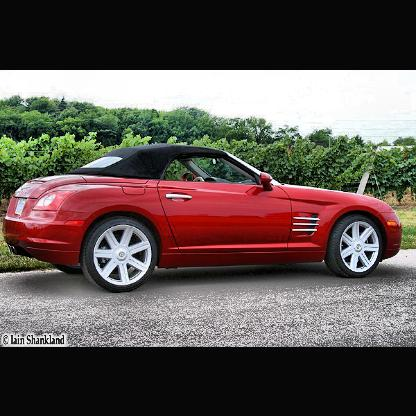Chrysler Crossfire Convertible 2008: (4, 145, 403, 297)
